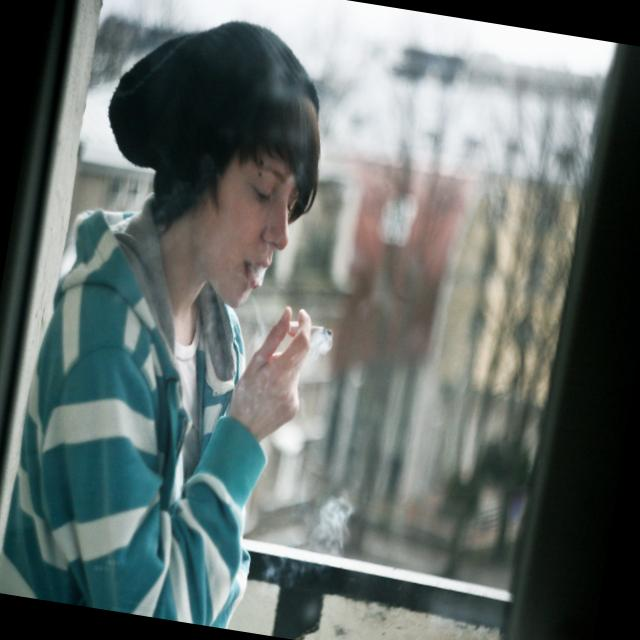cigarette: (284, 306, 338, 351)
